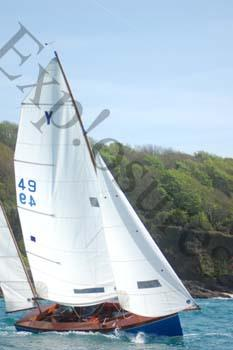Ship: (1, 52, 200, 339)
